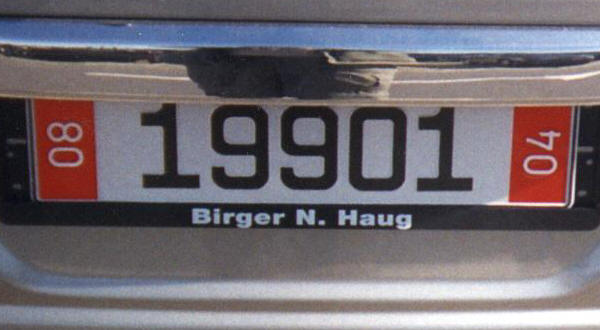license_plate: (31, 98, 579, 204)
